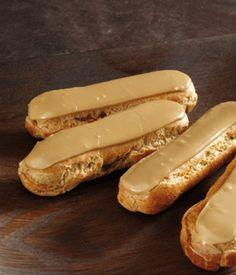eclair: (120, 105, 213, 219), (22, 120, 118, 194), (28, 78, 200, 112)
